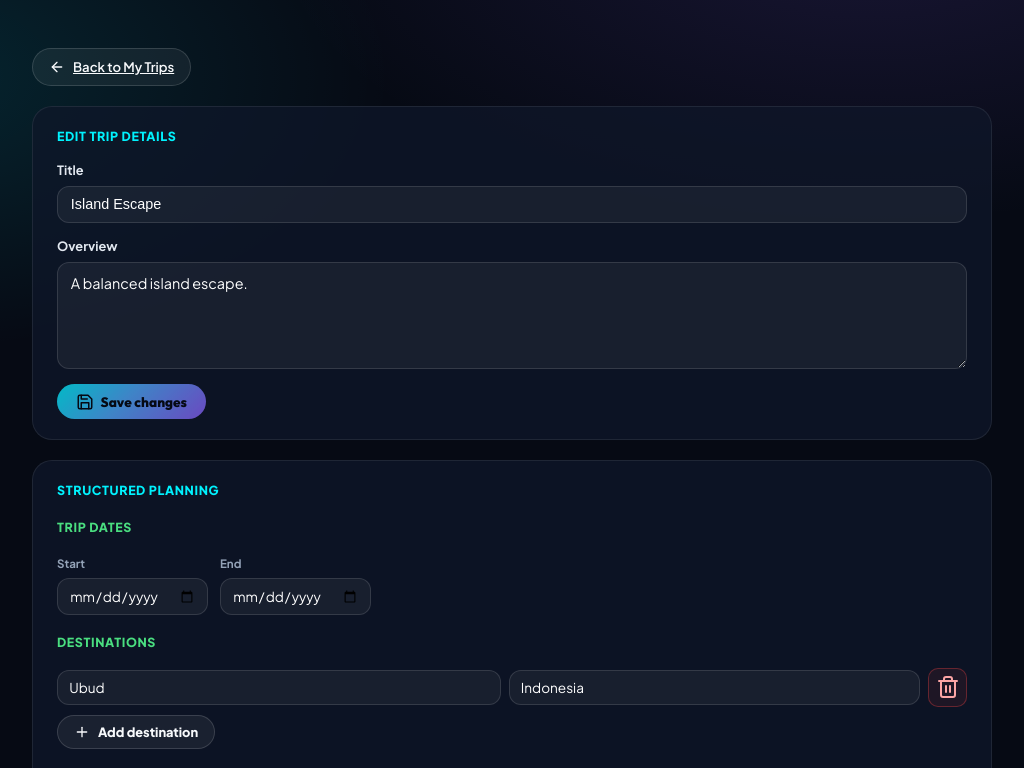
TripWorkspacePage editing boundary › shows the not-found panel when saving reports a missing trip
Clear the field labelled "Title": (512, 204) 57,186 -> 967,223
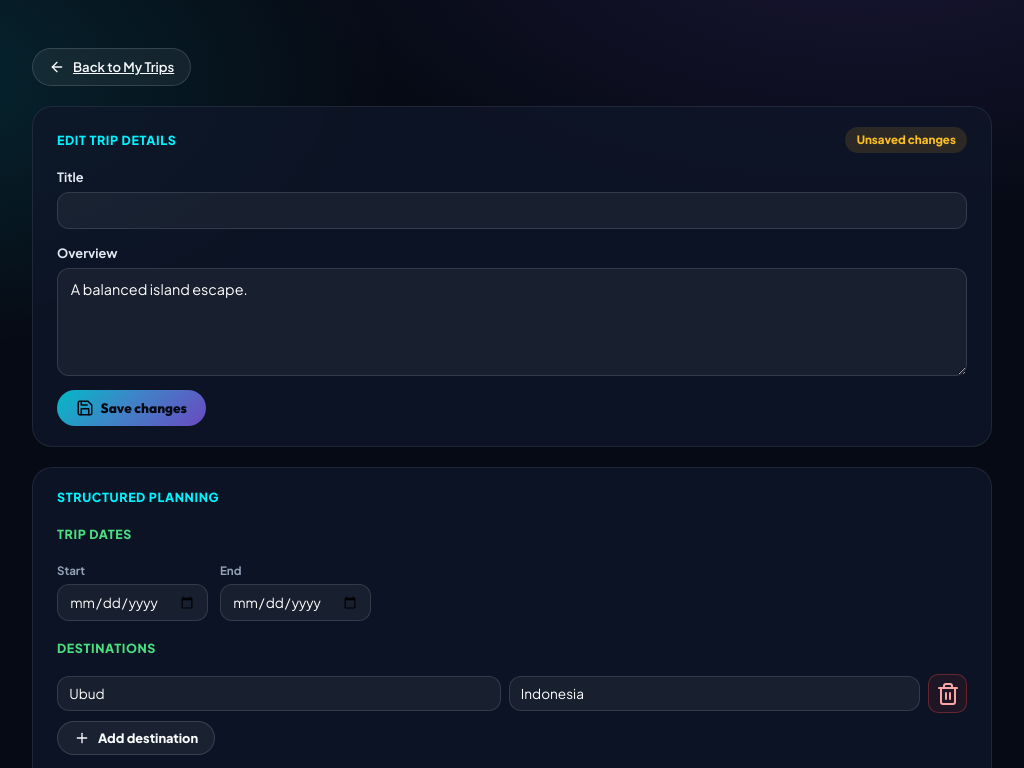
In the field labelled "Title": (512, 211) 57,192 -> 967,229, type "Island Escape 2"
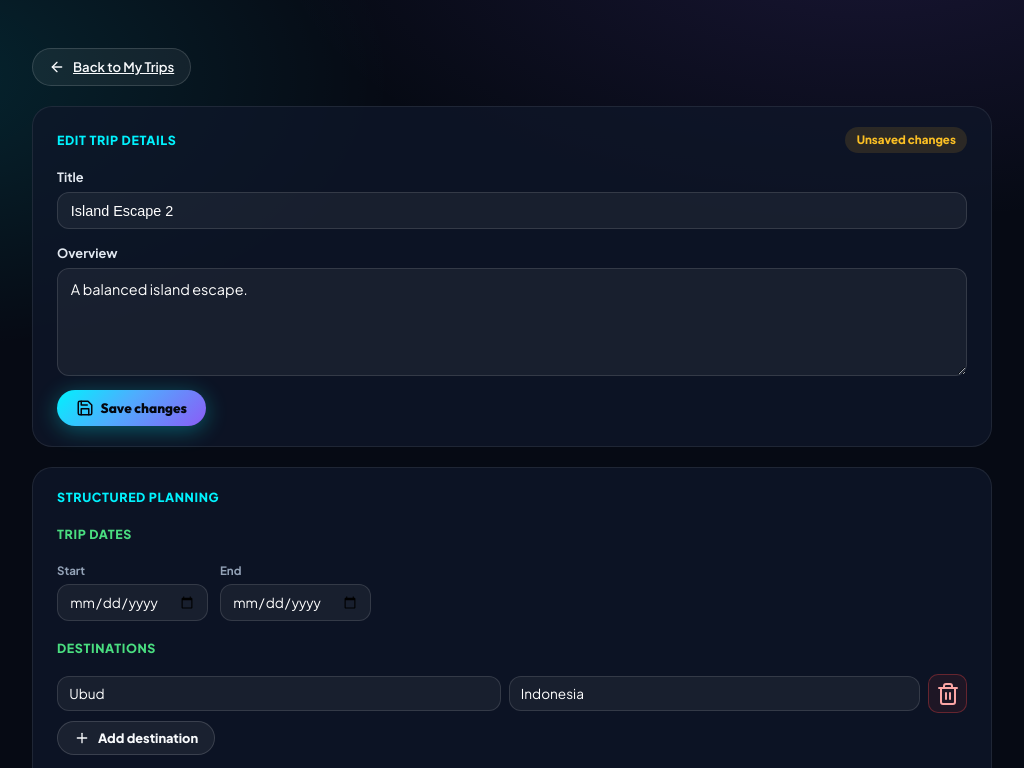
Click the button "Save changes": (132, 408) 57,390 -> 206,426
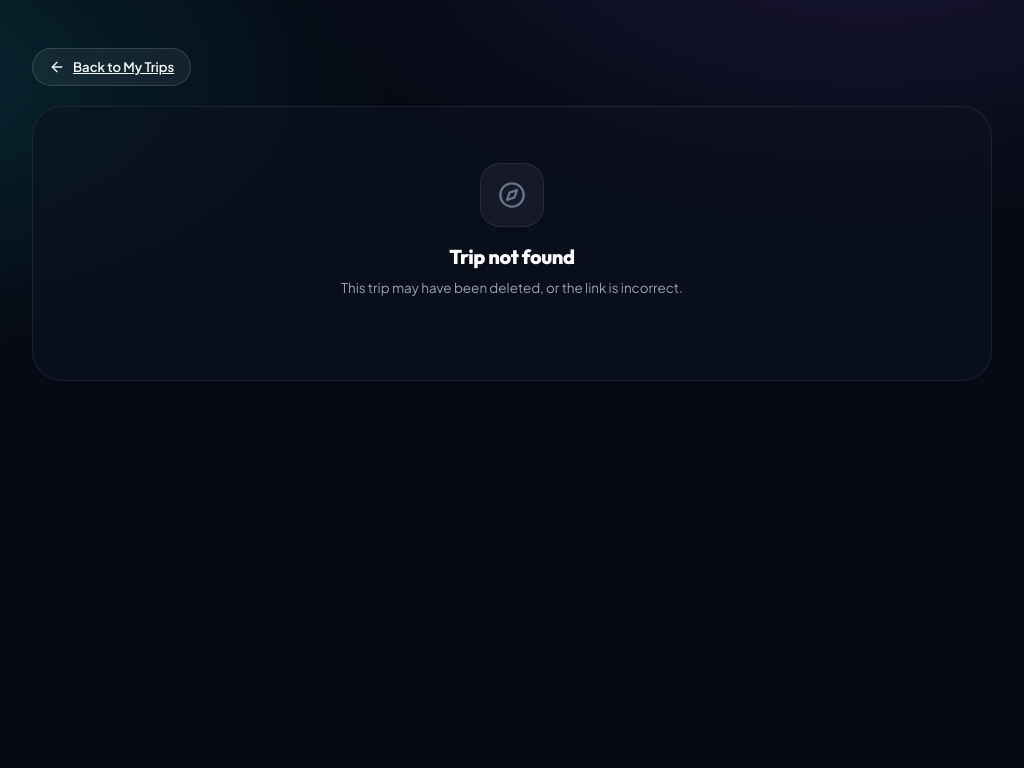
Now the heading "Trip not found" is shown, box 449,244 -> 575,269
